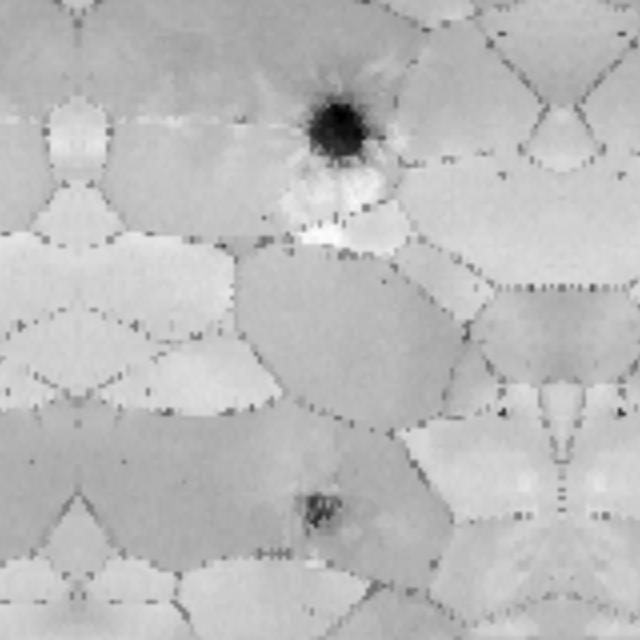good_void: (296, 85, 391, 172), (278, 474, 356, 545), (425, 556, 441, 570), (497, 405, 510, 419), (614, 405, 627, 419), (142, 386, 155, 399), (1, 386, 14, 399), (497, 166, 509, 180), (615, 166, 627, 180), (308, 603, 317, 621)
